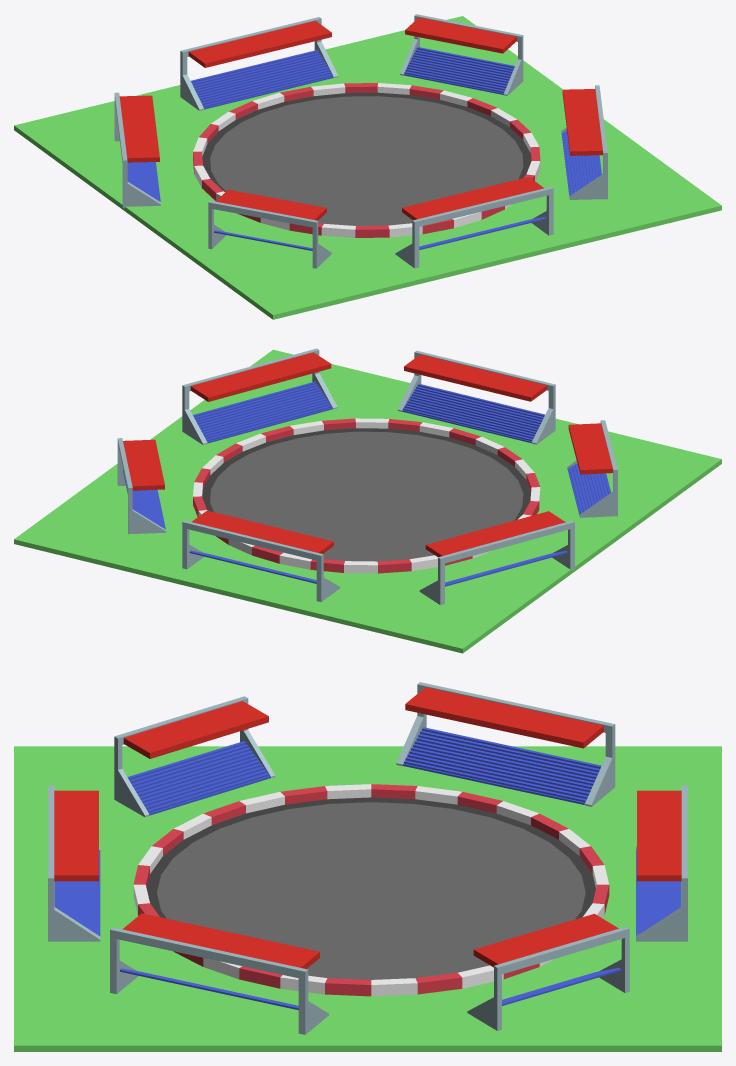
The model's file is Level1.fbx.
3 views of the same model, one above another, from view 1: azimuth 30°, elevation 25°; view 2: azimuth 150°, elevation 25°; view 3: azimuth 270°, elevation 25° (orthographic). The views are drawn at different scales.
Visible parts, largest first — view 1: Ground, Cylinder, Bleachers, Bleachers.003, Bleachers.001, Bleachers.004, Bleachers.005, Bleachers.002; view 2: Ground, Cylinder, Bleachers.001, Bleachers.004, Bleachers.005, Bleachers, Bleachers.002, Bleachers.003; view 3: Ground, Cylinder, Bleachers.005, Bleachers.002, Bleachers.004, Bleachers.001, Bleachers, Bleachers.003.
Boxes of the visible parts, x1=… form: Ground: x1=14, y1=16, x2=721, y2=319; Cylinder: x1=193, y1=83, x2=540, y2=237; Bleachers: x1=180, y1=17, x2=338, y2=110; Bleachers.003: x1=400, y1=14, x2=523, y2=95; Bleachers.001: x1=395, y1=177, x2=553, y2=268; Bleachers.004: x1=561, y1=85, x2=607, y2=199; Bleachers.005: x1=114, y1=92, x2=160, y2=208; Bleachers.002: x1=208, y1=189, x2=331, y2=268; Ground: x1=14, y1=349, x2=721, y2=653; Cylinder: x1=193, y1=418, x2=540, y2=573; Bleachers.001: x1=397, y1=350, x2=555, y2=444; Bleachers.004: x1=182, y1=348, x2=337, y2=444; Bleachers.005: x1=419, y1=511, x2=574, y2=604; Bleachers: x1=182, y1=510, x2=340, y2=601; Bleachers.002: x1=567, y1=420, x2=617, y2=517; Bleachers.003: x1=117, y1=438, x2=166, y2=534; Ground: x1=14, y1=746, x2=721, y2=1051; Cylinder: x1=133, y1=784, x2=609, y2=996; Bleachers.005: x1=396, y1=682, x2=615, y2=806; Bleachers.002: x1=114, y1=696, x2=275, y2=817; Bleachers.004: x1=110, y1=913, x2=328, y2=1034; Bleachers.001: x1=48, y1=785, x2=100, y2=941; Bleachers: x1=636, y1=785, x2=687, y2=941; Bleachers.003: x1=467, y1=913, x2=629, y2=1030.
Size of the model in its own units: 35844 by 3873 by 35717.
